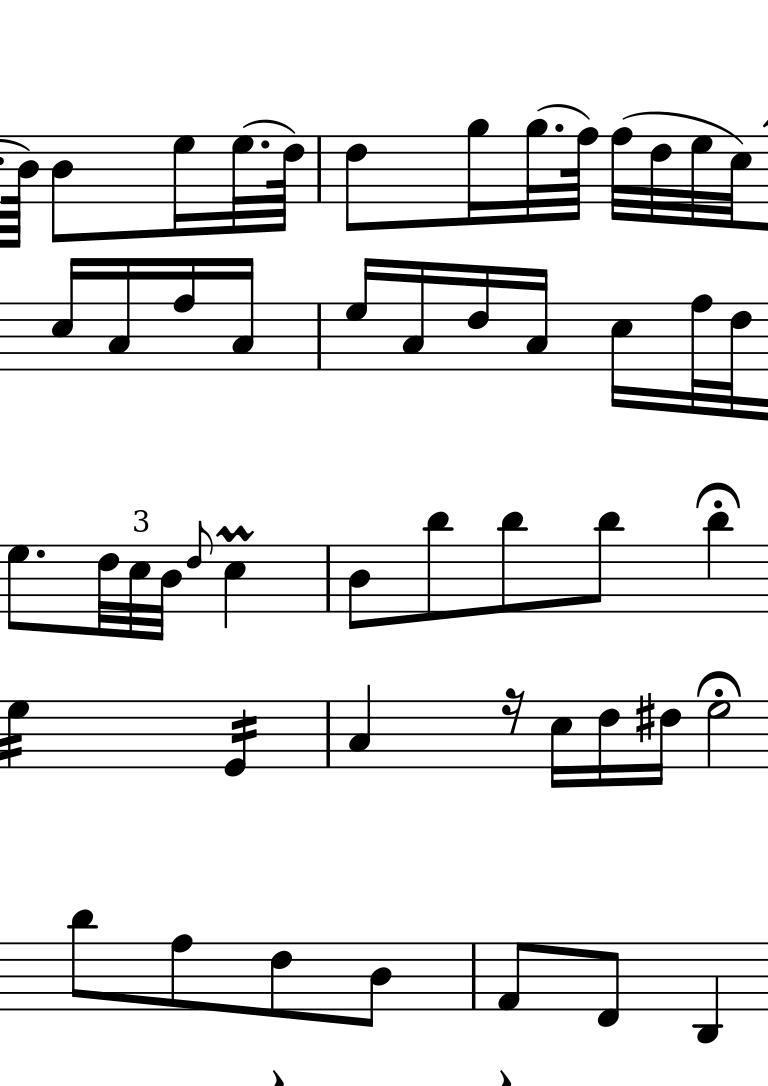16_3: (105, 256, 136, 375), (401, 258, 428, 372), (231, 257, 257, 374), (522, 266, 549, 371)
16_5: (51, 257, 86, 375), (610, 300, 635, 413), (547, 698, 575, 790)
16_6: (652, 698, 685, 789), (467, 264, 493, 371), (597, 697, 620, 791)
16_7: (345, 258, 376, 373)
16_8: (170, 256, 198, 372)
16_9: (466, 115, 493, 229)
2_7: (704, 697, 733, 772)
3: (131, 509, 149, 534)
32_4: (156, 542, 183, 641)
32_5: (721, 132, 750, 231), (127, 542, 151, 642)
32_6: (723, 301, 755, 425), (648, 127, 677, 225), (96, 542, 121, 640)
32_7: (230, 134, 256, 237), (688, 135, 717, 227)
32_8: (689, 294, 715, 419), (608, 126, 636, 222)
32_9: (525, 118, 550, 223)
4_-3: (695, 938, 721, 1043)
4_11: (705, 512, 732, 615)
4_3: (348, 682, 375, 772)
4_5: (223, 541, 250, 628)
64_4: (1, 130, 38, 249)
64_6: (269, 132, 302, 236)
64_8: (566, 126, 597, 224)
8_-1: (597, 939, 623, 1028)
8_1: (499, 940, 529, 1012)
8_11: (589, 508, 623, 617), (423, 510, 455, 623), (499, 510, 529, 613), (69, 908, 96, 1013)
8_4: (50, 131, 77, 244), (360, 939, 392, 1029), (346, 541, 377, 632)
8_6: (343, 133, 369, 235), (269, 939, 294, 1022)
8_7: (171, 134, 197, 236), (5, 542, 33, 633)
8_8: (168, 933, 193, 1012)
Appoggiature: (186, 521, 214, 613)
Fermata_above: (696, 481, 744, 512), (697, 669, 744, 698)
Rests16: (500, 687, 526, 732)
Sharp: (635, 692, 656, 740)
ShortTrill: (217, 523, 256, 542)
Single_barline: (309, 135, 330, 202), (310, 302, 331, 369), (319, 545, 339, 611)
Slur: (622, 110, 744, 144), (537, 103, 591, 120), (242, 117, 295, 134)
Stem: (225, 699, 258, 778), (1, 700, 33, 768)
dot: (255, 134, 276, 155), (552, 115, 567, 137), (34, 547, 48, 561), (259, 137, 273, 150), (553, 119, 565, 134)
